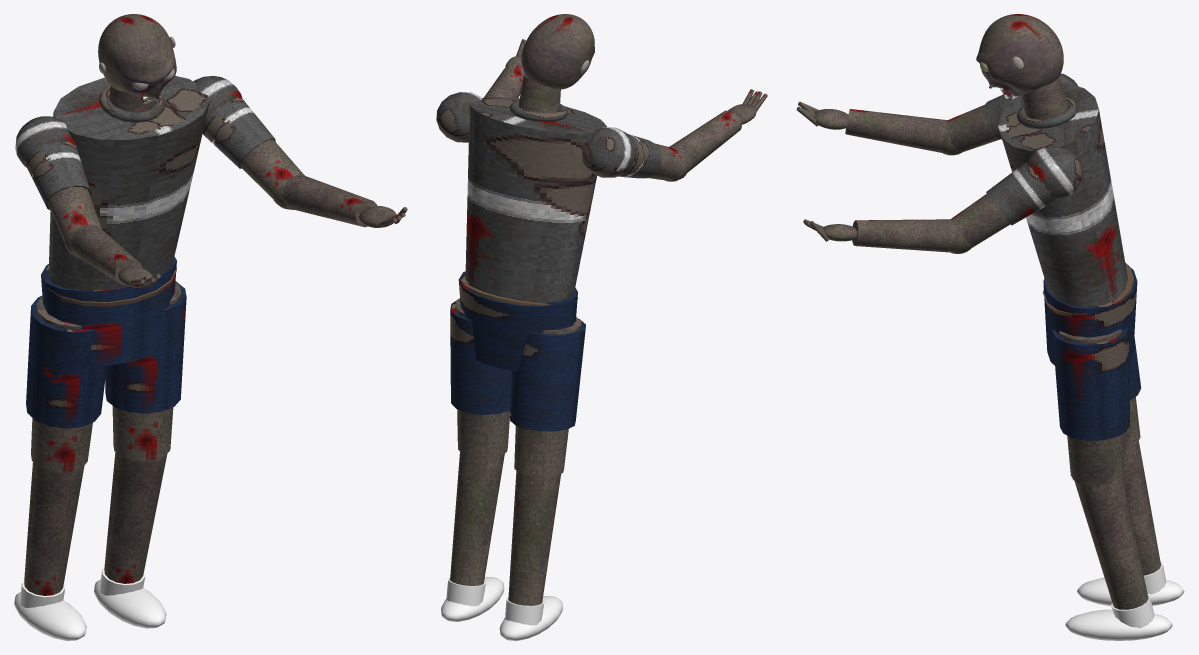
The model's file is Zombie_004.glb.
The picture shows the model from 3 angles, left to right: view 1: azimuth 30°, elevation 25°; view 2: azimuth 150°, elevation 25°; view 3: azimuth 270°, elevation 25°; orthographic projection. The views are drawn at different scales.
Parts seen in each view (by area): view 1: Zombie_004, object 16, object 10, object 3, object 11; view 2: Zombie_004, object 16, object 3, object 10; view 3: Zombie_004, object 16, object 10, object 3, object 4.
Boxes of the visible parts, box(x1,y1,x2,y2) form: Zombie_004: box(14, 76, 303, 640); object 16: box(98, 14, 176, 99); object 10: box(281, 174, 377, 227); object 3: box(70, 225, 142, 285); object 11: box(359, 206, 396, 227); Zombie_004: box(436, 73, 683, 640); object 16: box(521, 14, 594, 89); object 3: box(669, 110, 741, 172); object 10: box(484, 64, 524, 97); Zombie_004: box(945, 73, 1184, 640); object 16: box(976, 14, 1063, 96); object 10: box(852, 219, 955, 252); object 3: box(845, 109, 947, 152); object 4: box(814, 109, 848, 129).
Bounding box in the file's own units: 0.7953 × 1.79 × 1.05.
15 materials, 5 textured.
